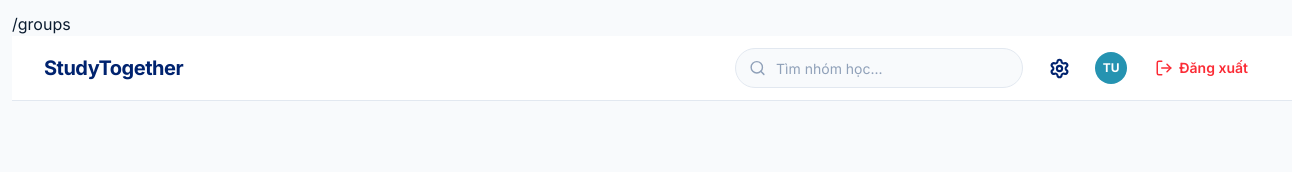
Header logout lifecycle › clears local auth state and navigates only after Supabase confirms sign out
The width and height of the screenshot is (1292, 172).
Click the button "Đăng xuất" at {"x": 1202, "y": 68}, box x1=1143 y1=48 x2=1260 y2=88
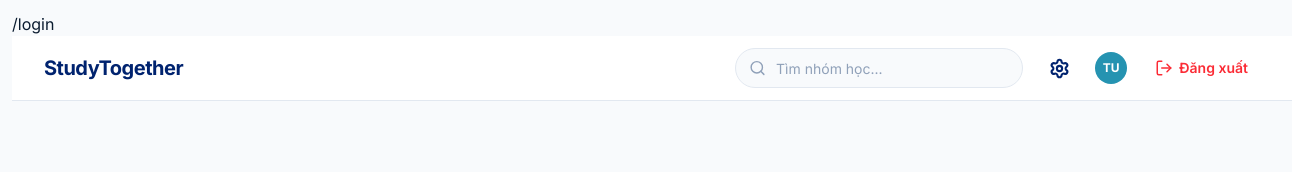
expect the text with test id "pathname" reads "/login": met, box x1=12 y1=14 x2=54 y2=34
